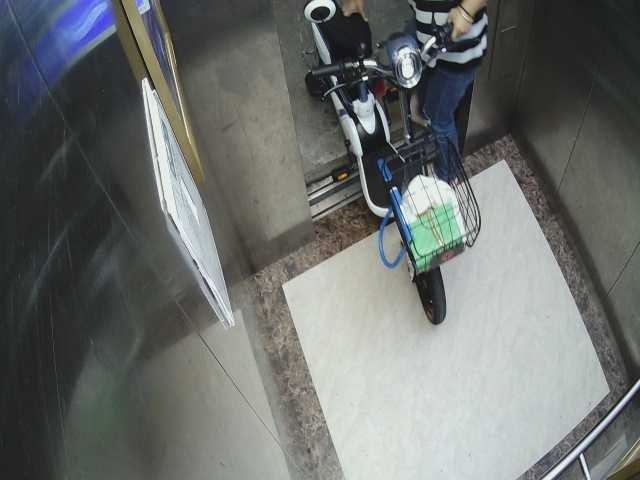emotor: (289, 4, 479, 332)
